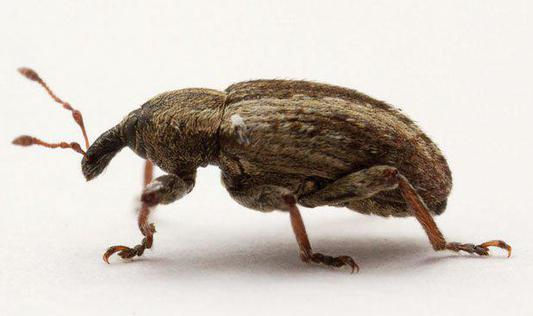weevils: (0, 28, 533, 305)
